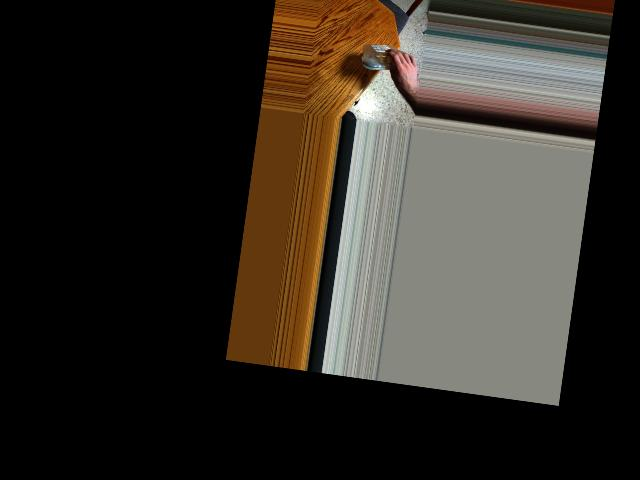cheese: (357, 33, 402, 89)
